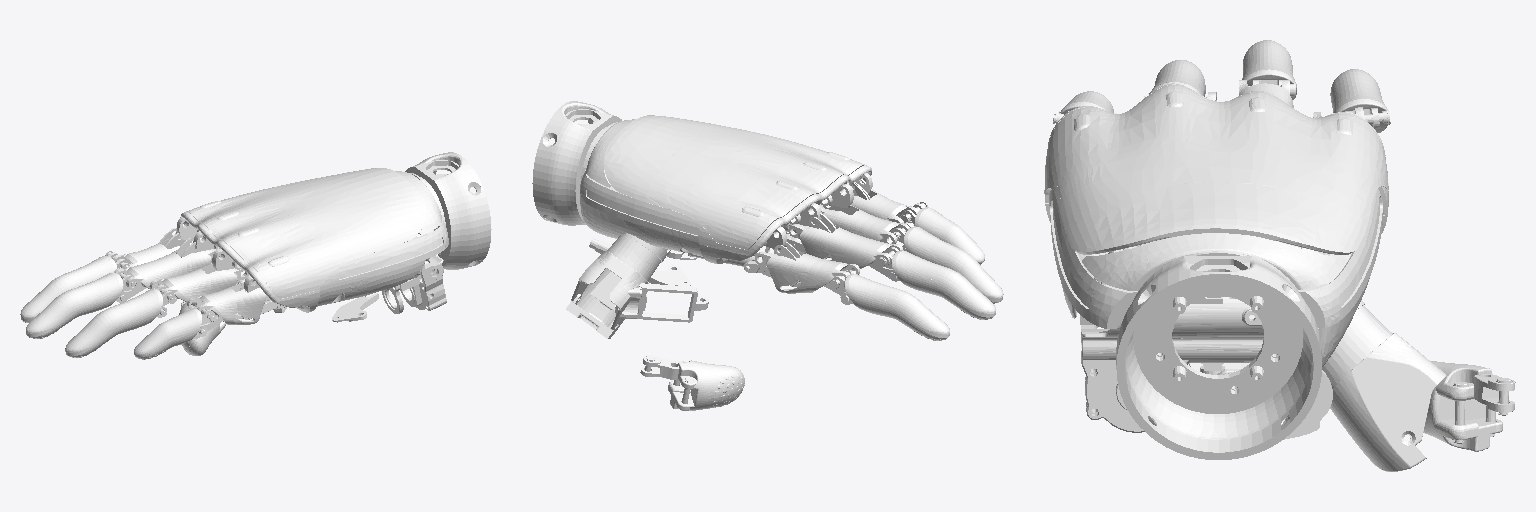
--- What the picture shows (computed from the rendered views, not written in the file) ---
Views: 3 orthographic renders of the robot side by side, from view 1: azimuth 30°, elevation 25°; view 2: azimuth 150°, elevation 25°; view 3: azimuth 270°, elevation 25°.
Robot: rohand_left — 26 links, 25 joints (1 revolute, 19 continuous, 5 prismatic); root link base_link; default pose: every joint at zero.
Links seen in each view (by area): view 1: base_link, rf_distal_link, mf_distal_link, lf_distal_link, if_distal_link, lf_proximal_link, rf_proximal_link, mf_proximal_link, if_proximal_link, th_root_link, th_distal_link; view 2: base_link, th_proximal_link, if_distal_link, mf_distal_link, th_distal_link, rf_distal_link, mf_proximal_link, if_proximal_link, lf_distal_link, th_slider_link, rf_proximal_link, lf_proximal_link (+2 smaller); view 3: base_link, th_proximal_link, th_distal_link, if_distal_link, mf_distal_link, th_connecting_link, rf_distal_link, th_root_link, lf_distal_link, mf_proximal_link.
Link boxes in pixels (box(x1,y1,x2,y2)): base_link: box(177, 152, 491, 313); rf_distal_link: box(65, 284, 176, 357); mf_distal_link: box(26, 268, 135, 338); lf_distal_link: box(134, 305, 215, 359); if_distal_link: box(20, 251, 129, 322); lf_proximal_link: box(187, 283, 268, 324); rf_proximal_link: box(149, 264, 248, 305); mf_proximal_link: box(115, 249, 220, 289); if_proximal_link: box(113, 237, 191, 267); th_root_link: box(332, 292, 378, 322); th_distal_link: box(179, 301, 225, 355); base_link: box(532, 101, 872, 263); th_proximal_link: box(566, 233, 670, 338); if_distal_link: box(830, 270, 949, 340); mf_distal_link: box(877, 247, 995, 319); th_distal_link: box(668, 360, 744, 410); rf_distal_link: box(891, 221, 1003, 303); mf_proximal_link: box(788, 220, 902, 270); if_proximal_link: box(755, 247, 859, 293); lf_distal_link: box(901, 202, 984, 264); th_slider_link: box(615, 283, 708, 322); rf_proximal_link: box(813, 205, 909, 243); lf_proximal_link: box(851, 190, 918, 223); base_link: box(1044, 83, 1388, 459); th_proximal_link: box(1302, 248, 1446, 471); th_distal_link: box(1423, 361, 1502, 451); if_distal_link: box(1330, 69, 1390, 132); mf_distal_link: box(1242, 40, 1296, 99); th_connecting_link: box(1474, 374, 1515, 415); rf_distal_link: box(1144, 60, 1205, 97); th_root_link: box(1284, 370, 1332, 439); lf_distal_link: box(1053, 91, 1113, 123); mf_proximal_link: box(1239, 80, 1293, 107).
Bounding box of the posed robot: 0.205 × 0.1121 × 0.0878 m (x, y, z).
Meshes: 26 distinct files referenced, 26 mesh visuals loaded (26 binary STL).

The robot description file, URDF, robot "rohand_left":
<?xml version="1.0" encoding="utf-8"?>
<!-- This URDF was automatically created by SolidWorks to URDF Exporter! Originally created by Stephen Brawner ([email redacted]) 
     Commit Version: 1.6.0-4-g7f85cfe  Build Version: 1.6.7995.38578
     For more information, please see http://wiki.ros.org/sw_urdf_exporter -->
<robot
  name="rohand_left">
  <link
    name="base_link">
    <inertial>
      <origin
        xyz="-0.0600175965544457 0.00173674741822627 -0.000192816298917277"
        rpy="0 0 0" />
      <mass
        value="0.0559618850522869" />
      <inertia
        ixx="2.5023287948442E-05"
        ixy="1.21179219483906E-06"
        ixz="1.31209546288813E-06"
        iyy="3.35110967631856E-05"
        iyz="4.46372025543688E-07"
        izz="5.16602242361807E-05" />
    </inertial>
    <visual>
      <origin
        xyz="0 0 0"
        rpy="0 0 0" />
      <geometry>
        <mesh
          filename="meshes_l/base_link.STL" />
      </geometry>
      <material
        name="">
        <color
          rgba="1 1 1 1" />
      </material>
    </visual>
    <collision>
      <origin
        xyz="0 0 0"
        rpy="0 0 0" />
      <geometry>
        <mesh
          filename="meshes_l/base_link.STL" />
      </geometry>
    </collision>
  </link>
  <link
    name="if_slider_link">
    <inertial>
      <origin
        xyz="-0.013831882124786 0.00115456036788866 1.18634508444434E-06"
        rpy="0 0 0" />
      <mass
        value="0.00048911221771827" />
      <inertia
        ixx="4.60387241005875E-09"
        ixy="2.8127898863501E-09"
        ixz="-3.18026655344598E-12"
        iyy="3.82302567697763E-08"
        iyz="7.17688117200499E-11"
        izz="3.92692763677803E-08" />
    </inertial>
    <visual>
      <origin
        xyz="0 0 0"
        rpy="0 0 0" />
      <geometry>
        <mesh
          filename="meshes_l/if_slider_link.STL" />
      </geometry>
      <material
        name="">
        <color
          rgba="1 1 1 1" />
      </material>
    </visual>
    <collision>
      <origin
        xyz="0 0 0"
        rpy="0 0 0" />
      <geometry>
        <mesh
          filename="meshes_l/if_slider_link.STL" />
      </geometry>
    </collision>
  </link>
  <joint
    name="if_slider_link"
    type="prismatic">
    <origin
      xyz="-0.074396 0.026655 -0.0097434"
      rpy="0 0 0" />
    <parent
      link="base_link" />
    <child
      link="if_slider_link" />
    <axis
      xyz="0.99655 -0.083049 0" />
    <limit
      lower="0"
      upper="0.019"
      effort="0"
      velocity="0" />
  </joint>
  <link
    name="if_slider_abpart_link">
    <inertial>
      <origin
        xyz="-0.0107864188255614 -0.00263940611058047 -0.00013913226482987"
        rpy="0 0 0" />
      <mass
        value="0.000419595822746572" />
      <inertia
        ixx="1.75917796784222E-09"
        ixy="2.74325143413962E-10"
        ixz="-6.61499697224064E-10"
        iyy="5.73351660617891E-09"
        iyz="9.56844870518539E-11"
        izz="6.20984539277726E-09" />
    </inertial>
    <visual>
      <origin
        xyz="0 0 0"
        rpy="0 0 0" />
      <geometry>
        <mesh
          filename="meshes_l/if_slider_abpart_link.STL" />
      </geometry>
      <material
        name="">
        <color
          rgba="1 1 1 1" />
      </material>
    </visual>
    <collision>
      <origin
        xyz="0 0 0"
        rpy="0 0 0" />
      <geometry>
        <mesh
          filename="meshes_l/if_slider_abpart_link.STL" />
      </geometry>
    </collision>
  </link>
  <joint
    name="if_slider_abpart_link"
    type="continuous">
    <origin
      xyz="-0.02861 0.0058839 -0.00030477"
      rpy="0 0 0" />
    <parent
      link="if_slider_link" />
    <child
      link="if_slider_abpart_link" />
    <axis
      xyz="0.082734 0.99276 -0.087135" />
  </joint>
  <link
    name="if_proximal_link">
    <inertial>
      <origin
        xyz="-0.0180401934810981 -0.00594318681409525 -0.00214940799795961"
        rpy="0 0 0" />
      <mass
        value="0.00154987032874225" />
      <inertia
        ixx="6.20379278686707E-08"
        ixy="7.89401144100231E-09"
        ixz="2.15078751193784E-09"
        iyy="1.54247144894286E-07"
        iyz="1.11019132631612E-09"
        izz="1.69493178080606E-07" />
    </inertial>
    <visual>
      <origin
        xyz="0 0 0"
        rpy="0 0 0" />
      <geometry>
        <mesh
          filename="meshes_l/if_proximal_link.STL" />
      </geometry>
      <material
        name="">
        <color
          rgba="1 1 1 1" />
      </material>
    </visual>
    <collision>
      <origin
        xyz="0 0 0"
        rpy="0 0 0" />
      <geometry>
        <mesh
          filename="meshes_l/if_proximal_link.STL" />
      </geometry>
    </collision>
  </link>
  <joint
    name="if_proximal_link"
    type="continuous">
    <origin
      xyz="-0.11211 0.037738 -0.0018032"
      rpy="0 0 0" />
    <parent
      link="base_link" />
    <child
      link="if_proximal_link" />
    <axis
      xyz="0.082428 0.99278 -0.087177" />
  </joint>
  <link
    name="if_distal_link">
    <inertial>
      <origin
        xyz="-0.0242417824734568 -0.00576634331785805 -0.00601095840966076"
        rpy="0 0 0" />
      <mass
        value="0.0042269383122795" />
      <inertia
        ixx="9.82682026496382E-08"
        ixy="2.86098057670536E-08"
        ixz="-1.10777302806872E-07"
        iyy="5.59160651416525E-07"
        iyz="7.3813015969809E-09"
        izz="5.40423175644971E-07" />
    </inertial>
    <visual>
      <origin
        xyz="0 0 0"
        rpy="0 0 0" />
      <geometry>
        <mesh
          filename="meshes_l/if_distal_link.STL" />
      </geometry>
      <material
        name="">
        <color
          rgba="1 1 1 1" />
      </material>
    </visual>
    <collision>
      <origin
        xyz="0 0 0"
        rpy="0 0 0" />
      <geometry>
        <mesh
          filename="meshes_l/if_distal_link.STL" />
      </geometry>
    </collision>
  </link>
  <joint
    name="if_distal_link"
    type="continuous">
    <origin
      xyz="-0.035776 0.0028401 -0.0014841"
      rpy="0 0 0" />
    <parent
      link="if_proximal_link" />
    <child
      link="if_distal_link" />
    <axis
      xyz="0.082428 0.99278 -0.087177" />
  </joint>
  <link
    name="if_connecting_link">
    <inertial>
      <origin
        xyz="-0.0154529830298678 -0.00300880066164064 -0.00700719055867323"
        rpy="0 0 0" />
      <mass
        value="0.000197692348310411" />
      <inertia
        ixx="4.07223389206408E-09"
        ixy="1.11280581546581E-09"
        ixz="-9.07369152604057E-09"
        iyy="2.70145409777339E-08"
        iyz="4.0263808141139E-10"
        izz="2.30774689922598E-08" />
    </inertial>
    <visual>
      <origin
        xyz="0 0 0"
        rpy="0 0 0" />
      <geometry>
        <mesh
          filename="meshes_l/if_connecting_link.STL" />
      </geometry>
      <material
        name="">
        <color
          rgba="1 1 1 1" />
      </material>
    </visual>
    <collision>
      <origin
        xyz="0 0 0"
        rpy="0 0 0" />
      <geometry>
        <mesh
          filename="meshes_l/if_connecting_link.STL" />
      </geometry>
    </collision>
  </link>
  <joint
    name="if_connecting_link"
    type="continuous">
    <origin
      xyz="-0.11976 0.03521 0.0028896"
      rpy="0 0 0" />
    <parent
      link="base_link" />
    <child
      link="if_connecting_link" />
    <axis
      xyz="0.082428 0.99278 -0.087177" />
  </joint>
  <link
    name="mf_slider_link">
    <inertial>
      <origin
        xyz="-0.013878747077534 0.000185328089726128 8.62274037224248E-08"
        rpy="0 0 0" />
      <mass
        value="0.000489112305392741" />
      <inertia
        ixx="4.3759626088488E-09"
        ixy="4.42668858430006E-10"
        ixz="-1.3030916787935E-11"
        iyy="3.84519195282787E-08"
        iyz="4.98468697390939E-13"
        izz="3.92755372638914E-08" />
    </inertial>
    <visual>
      <origin
        xyz="0 0 0"
        rpy="0 0 0" />
      <geometry>
        <mesh
          filename="meshes_l/mf_slider_link.STL" />
      </geometry>
      <material
        name="">
        <color
          rgba="1 1 1 1" />
      </material>
    </visual>
    <collision>
      <origin
        xyz="0 0 0"
        rpy="0 0 0" />
      <geometry>
        <mesh
          filename="meshes_l/mf_slider_link.STL" />
      </geometry>
    </collision>
  </link>
  <joint
    name="mf_slider_link"
    type="prismatic">
    <origin
      xyz="-0.076974 0.010077 -0.0054756"
      rpy="0 0 0" />
    <parent
      link="base_link" />
    <child
      link="mf_slider_link" />
    <axis
      xyz="0.99991 -0.013228 0.00010039" />
    <limit
      lower="0"
      upper="0.019"
      effort="0"
      velocity="0" />
  </joint>
  <link
    name="mf_slider_abpart_link">
    <inertial>
      <origin
        xyz="-0.0105596379857566 -0.00336124088471215 -0.000727211243021131"
        rpy="0 0 0" />
      <mass
        value="0.000419595848489683" />
      <inertia
        ixx="1.78090578752483E-09"
        ixy="5.238668931519E-11"
        ixz="-7.88313295390851E-10"
        iyy="5.74728451250454E-09"
        iyz="1.04756066269533E-11"
        izz="6.17435090190752E-09" />
    </inertial>
    <visual>
      <origin
        xyz="0 0 0"
        rpy="0 0 0" />
      <geometry>
        <mesh
          filename="meshes_l/mf_slider_abpart_link.STL" />
      </geometry>
      <material
        name="">
        <color
          rgba="1 1 1 1" />
      </material>
    </visual>
    <collision>
      <origin
        xyz="0 0 0"
        rpy="0 0 0" />
      <geometry>
        <mesh
          filename="meshes_l/mf_slider_abpart_link.STL" />
      </geometry>
    </collision>
  </link>
  <joint
    name="mf_slider_abpart_link"
    type="continuous">
    <origin
      xyz="-0.028951 0.0038841 0"
      rpy="0 0 0" />
    <parent
      link="mf_slider_link" />
    <child
      link="mf_slider_abpart_link" />
    <axis
      xyz="0.013228 0.99991 -7.2594E-05" />
  </joint>
  <link
    name="mf_proximal_link">
    <inertial>
      <origin
        xyz="-0.0199797334891479 -0.00693582390555647 -0.00446806914321724"
        rpy="0 0 0" />
      <mass
        value="0.00189508780970619" />
      <inertia
        ixx="7.78059237332349E-08"
        ixy="2.0676177672704E-09"
        ixz="-1.00300119994739E-08"
        iyy="2.3404709814833E-07"
        iyz="1.32133235333921E-10"
        izz="2.46206545141109E-07" />
    </inertial>
    <visual>
      <origin
        xyz="0 0 0"
        rpy="0 0 0" />
      <geometry>
        <mesh
          filename="meshes_l/mf_proximal_link.STL" />
      </geometry>
      <material
        name="">
        <color
          rgba="1 1 1 1" />
      </material>
    </visual>
    <collision>
      <origin
        xyz="0 0 0"
        rpy="0 0 0" />
      <geometry>
        <mesh
          filename="meshes_l/mf_proximal_link.STL" />
      </geometry>
    </collision>
  </link>
  <joint
    name="mf_proximal_link"
    type="continuous">
    <origin
      xyz="-0.11587 0.017792 0.0031262"
      rpy="0 0 0" />
    <parent
      link="base_link" />
    <child
      link="mf_proximal_link" />
    <axis
      xyz="0.013244 0.99991 4.2699E-05" />
  </joint>
  <link
    name="mf_distal_link">
    <inertial>
      <origin
        xyz="-0.0237385164850207 -0.00688494079178076 -0.00679220850075163"
        rpy="0 0 0" />
      <mass
        value="0.0042269628029676" />
      <inertia
        ixx="9.80058679932351E-08"
        ixy="6.06231538286095E-09"
        ixz="-1.13827652906676E-07"
        iyy="5.60810951030143E-07"
        iyz="1.48885023943625E-09"
        izz="5.39048309363154E-07" />
    </inertial>
    <visual>
      <origin
        xyz="0 0 0"
        rpy="0 0 0" />
      <geometry>
        <mesh
          filename="meshes_l/mf_distal_link.STL" />
      </geometry>
      <material
        name="">
        <color
          rgba="1 1 1 1" />
      </material>
    </visual>
    <collision>
      <origin
        xyz="0 0 0"
        rpy="0 0 0" />
      <geometry>
        <mesh
          filename="meshes_l/mf_distal_link.STL" />
      </geometry>
    </collision>
  </link>
  <joint
    name="mf_distal_link"
    type="continuous">
    <origin
      xyz="-0.040851 0.00054126 -0.0035367"
      rpy="0 0 0" />
    <parent
      link="mf_proximal_link" />
    <child
      link="mf_distal_link" />
    <axis
      xyz="0.013244 0.99991 2.1055E-05" />
  </joint>
  <link
    name="mf_connecting_link">
    <inertial>
      <origin
        xyz="-0.0173259476733337 -0.00342060961323609 -0.00839513952079128"
        rpy="0 0 0" />
      <mass
        value="0.000216184518525667" />
      <inertia
        ixx="5.71913358376963E-09"
        ixy="4.34632649617872E-10"
        ixz="-1.31282895880665E-08"
        iyy="3.85063451062604E-08"
        iyz="1.74009446649164E-10"
        izz="3.28217930253539E-08" />
    </inertial>
    <visual>
      <origin
        xyz="0 0 0"
        rpy="0 0 0" />
      <geometry>
        <mesh
          filename="meshes_l/mf_connecting_link.STL" />
      </geometry>
      <material
        name="">
        <color
          rgba="1 1 1 1" />
      </material>
    </visual>
    <collision>
      <origin
        xyz="0 0 0"
        rpy="0 0 0" />
      <geometry>
        <mesh
          filename="meshes_l/mf_connecting_link.STL" />
      </geometry>
    </collision>
  </link>
  <joint
    name="mf_connecting_link"
    type="continuous">
    <origin
      xyz="-0.12334 0.014341 0.0075259"
      rpy="0 0 0" />
    <parent
      link="base_link" />
    <child
      link="mf_connecting_link" />
    <axis
      xyz="0.013244 0.99991 2.1054E-05" />
  </joint>
  <link
    name="rf_slider_link">
    <inertial>
      <origin
        xyz="-0.0138578672671499 -0.000783242488329478 1.59405782883433E-07"
        rpy="0 0 0" />
      <mass
        value="0.000489112303078988" />
      <inertia
        ixx="4.48016318899327E-09"
        ixy="-1.93283010934183E-09"
        ixz="-1.28464378602608E-11"
        iyy="3.834771866864E-08"
        iyz="-3.94300598627786E-13"
        izz="3.92755371230416E-08" />
    </inertial>
    <visual>
      <origin
        xyz="0 0 0"
        rpy="0 0 0" />
      <geometry>
        <mesh
          filename="meshes_l/rf_slider_link.STL" />
      </geometry>
      <material
        name="">
        <color
          rgba="1 1 1 1" />
      </material>
    </visual>
    <collision>
      <origin
        xyz="0 0 0"
        rpy="0 0 0" />
      <geometry>
        <mesh
          filename="meshes_l/rf_slider_link.STL" />
      </geometry>
    </collision>
  </link>
  <joint
    name="rf_slider_link"
    type="prismatic">
    <origin
      xyz="-0.074498 -0.0072492 -0.0062204"
      rpy="0 0 0" />
    <parent
      link="base_link" />
    <child
      link="rf_slider_link" />
    <axis
      xyz="0.9984 0.056554 9.5082E-05" />
    <limit
      lower="0"
      upper="0.019"
      effort="0"
      velocity="0" />
  </joint>
  <link
    name="rf_slider_abpart_link">
    <inertial>
      <origin
        xyz="-0.0103066808663681 -0.00409004748705058 -0.000613628353270297"
        rpy="0 0 0" />
      <mass
        value="0.000419595841745906" />
      <inertia
        ixx="1.77645736028942E-09"
        ixy="-2.25058409313134E-10"
        ixz="-7.39578165961404E-10"
        iyy="5.73522260886412E-09"
        iyz="-4.18409260159825E-11"
        izz="6.19086108929486E-09" />
    </inertial>
    <visual>
      <origin
        xyz="0 0 0"
        rpy="0 0 0" />
      <geometry>
        <mesh
          filename="meshes_l/rf_slider_abpart_link.STL" />
      </geometry>
      <material
        name="">
        <color
          rgba="1 1 1 1" />
      </material>
    </visual>
    <collision>
      <origin
        xyz="0 0 0"
        rpy="0 0 0" />
      <geometry>
        <mesh
          filename="meshes_l/rf_slider_abpart_link.STL" />
      </geometry>
    </collision>
  </link>
  <joint
    name="rf_slider_abpart_link"
    type="continuous">
    <origin
      xyz="-0.029152 0.0018551 0"
      rpy="0 0 0" />
    <parent
      link="rf_slider_link" />
    <child
      link="rf_slider_abpart_link" />
    <axis
      xyz="-0.056554 0.9984 -7.942E-05" />
  </joint>
  <link
    name="rf_proximal_link">
    <inertial>
      <origin
        xyz="-0.0169549089835899 -0.00817221852533054 -0.00333737800773532"
        rpy="0 0 0" />
      <mass
        value="0.00154985371268108" />
      <inertia
        ixx="6.16430441306532E-08"
        ixy="-5.27625854931828E-09"
        ixz="-1.35085566211526E-09"
        iyy="1.54505752798055E-07"
        iyz="-7.80848576926728E-11"
        izz="1.69627005510225E-07" />
    </inertial>
    <visual>
      <origin
        xyz="0 0 0"
        rpy="0 0 0" />
      <geometry>
        <mesh
          filename="meshes_l/rf_proximal_link.STL" />
      </geometry>
      <material
        name="">
        <color
          rgba="1 1 1 1" />
      </material>
    </visual>
    <collision>
      <origin
        xyz="0 0 0"
        rpy="0 0 0" />
      <geometry>
        <mesh
          filename="meshes_l/rf_proximal_link.STL" />
      </geometry>
    </collision>
  </link>
  <joint
    name="rf_proximal_link"
    type="continuous">
    <origin
      xyz="-0.11364 -0.0022565 0.0023761"
      rpy="0 0 0" />
    <parent
      link="base_link" />
    <child
      link="rf_proximal_link" />
    <axis
      xyz="-0.05658 0.9984 2.102E-05" />
  </joint>
  <link
    name="rf_distal_link">
    <inertial>
      <origin
        xyz="-0.022696111452442 -0.00849649226724736 -0.00835478756750876"
        rpy="0 0 0" />
      <mass
        value="0.00422730983553646" />
      <inertia
        ixx="1.16496262714894E-07"
        ixy="-2.5261364839183E-08"
        ixz="-1.41993969994743E-07"
        iyy="5.59567957009536E-07"
        iyz="-8.07053877471632E-09"
        izz="5.22034079641838E-07" />
    </inertial>
    <visual>
      <origin
        xyz="0 0 0"
        rpy="0 0 0" />
      <geometry>
        <mesh
          filename="meshes_l/rf_distal_link.STL" />
      </geometry>
      <material
        name="">
        <color
          rgba="1 1 1 1" />
      </material>
    </visual>
    <collision>
      <origin
        xyz="0 0 0"
        rpy="0 0 0" />
      <geometry>
        <mesh
          filename="meshes_l/rf_distal_link.STL" />
      </geometry>
    </collision>
  </link>
  <joint
    name="rf_distal_link"
    type="continuous">
    <origin
      xyz="-0.035766 -0.0020268 -0.0026198"
      rpy="0 0 0" />
    <parent
      link="rf_proximal_link" />
    <child
      link="rf_distal_link" />
    <axis
      xyz="-0.05658 0.9984 2.102E-05" />
  </joint>
  <link
    name="rf_connecting_link">
    <inertial>
      <origin
        xyz="-0.0182151281756033 0.0164706758619828 -0.00574282817068492"
        rpy="0 0 0" />
      <mass
        value="0.000197692354337264" />
      <inertia
        ixx="4.92838052690555E-09"
        ixy="-1.25465921189233E-09"
        ixz="-9.87171474508207E-09"
        iyy="2.70004879799029E-08"
        iyz="-5.59333811535522E-10"
        izz="2.22353755729308E-08" />
    </inertial>
    <visual>
      <origin
        xyz="0 0 0"
        rpy="0 0 0" />
      <geometry>
        <mesh
          filename="meshes_l/rf_connecting_link.STL" />
      </geometry>
      <material
        name="">
        <color
          rgba="1 1 1 1" />
      </material>
    </visual>
    <collision>
      <origin
        xyz="0 0 0"
        rpy="0 0 0" />
      <geometry>
        <mesh
          filename="meshes_l/rf_connecting_link.STL" />
      </geometry>
    </collision>
  </link>
  <joint
    name="rf_connecting_link"
    type="continuous">
    <origin
      xyz="-0.11723 -0.027174 0.0045247"
      rpy="0 0 0" />
    <parent
      link="base_link" />
    <child
      link="rf_connecting_link" />
    <axis
      xyz="-0.05658 0.9984 2.102E-05" />
  </joint>
  <link
    name="lf_slider_link">
    <inertial>
      <origin
        xyz="-0.0144167564876969 -0.00171205925869156 3.81352530457336E-07"
        rpy="0 0 0" />
      <mass
        value="0.000510662528391611" />
      <inertia
        ixx="4.9365491500063E-09"
        ixy="-3.99382130462206E-09"
        ixz="-3.828969291191E-12"
        iyy="3.79994364556094E-08"
        iyz="-7.87026435487919E-11"
        izz="3.93595008041777E-08" />
    </inertial>
    <visual>
      <origin
        xyz="0 0 0"
        rpy="0 0 0" />
      <geometry>
        <mesh
          filename="meshes_l/lf_slider_link.STL" />
      </geometry>
      <material
        name="">
        <color
          rgba="1 1 1 1" />
      </material>
    </visual>
    <collision>
      <origin
        xyz="0 0 0"
        rpy="0 0 0" />
      <geometry>
        <mesh
          filename="meshes_l/lf_slider_link.STL" />
      </geometry>
    </collision>
  </link>
  <joint
    name="lf_slider_link"
    type="prismatic">
    <origin
      xyz="-0.070847 -0.024182 -0.0087399"
      rpy="0 0 0" />
    <parent
      link="base_link" />
    <child
      link="lf_slider_link" />
    <axis
      xyz="0.99301 0.11803 8.2704E-05" />
    <limit
      lower="0"
      upper="0.019"
      effort="0"
      velocity="0" />
  </joint>
  <link
    name="lf_slider_abpart_link">
    <inertial>
      <origin
        xyz="-0.0100358483607182 -0.00463982379624506 -0.00104236140669513"
        rpy="0 0 0" />
      <mass
        value="0.000419595826532552" />
      <inertia
        ixx="1.82121196852816E-09"
        ixy="-3.9802967870408E-10"
        ixz="-7.80769700533061E-10"
        iyy="5.71210051864852E-09"
        iyz="-1.29906442115816E-10"
        izz="6.16922773505283E-09" />
    </inertial>
    <visual>
      <origin
        xyz="0 0 0"
        rpy="0 0 0" />
      <geometry>
        <mesh
          filename="meshes_l/lf_slider_abpart_link.STL" />
      </geometry>
      <material
        name="">
        <color
          rgba="1 1 1 1" />
      </material>
    </visual>
    <collision>
      <origin
        xyz="0 0 0"
        rpy="0 0 0" />
      <geometry>
        <mesh
          filename="meshes_l/lf_slider_abpart_link.STL" />
      </geometry>
    </collision>
  </link>
  <joint
    name="lf_slider_abpart_link"
    type="continuous">
    <origin
      xyz="-0.029209 4.0116E-05 0.00030326"
      rpy="0 0 0" />
    <parent
      link="lf_slider_link" />
    <child
      link="lf_slider_abpart_link" />
    <axis
      xyz="-0.11759 0.98923 0.08715" />
  </joint>
  <link
    name="lf_proximal_link">
    <inertial>
      <origin
        xyz="-0.0146179038371213 -0.00865933449081624 -0.00404765240562847"
        rpy="0 0 0" />
      <mass
        value="0.00136661208486985" />
      <inertia
        ixx="5.65517835433433E-08"
        ixy="-6.43465965682621E-09"
        ixz="-2.86652645878912E-09"
        iyy="1.12186752570062E-07"
        iyz="-1.61029658148309E-09"
        izz="1.27246247373284E-07" />
    </inertial>
    <visual>
      <origin
        xyz="0 0 0"
        rpy="0 0 0" />
      <geometry>
        <mesh
          filename="meshes_l/lf_proximal_link.STL" />
      </geometry>
      <material
        name="">
        <color
          rgba="1 1 1 1" />
      </material>
    </visual>
    <collision>
      <origin
        xyz="0 0 0"
        rpy="0 0 0" />
      <geometry>
        <mesh
          filename="meshes_l/lf_proximal_link.STL" />
      </geometry>
    </collision>
  </link>
  <joint
    name="lf_proximal_link"
    type="continuous">
    <origin
      xyz="-0.11032 -0.022406 0.00045133"
      rpy="0 0 0" />
    <parent
      link="base_link" />
    <child
      link="lf_proximal_link" />
    <axis
      xyz="-0.11759 0.98923 0.087106" />
  </joint>
  <link
    name="lf_distal_link">
    <inertial>
      <origin
        xyz="-0.014370796499536 -0.008390245956126 -0.00657795990320131"
        rpy="0 0 0" />
      <mass
        value="0.00262042947413116" />
      <inertia
        ixx="5.14865241597797E-08"
        ixy="-8.72354900376059E-09"
        ixz="-3.78475585620367E-08"
        iyy="1.52166371803539E-07"
        iyz="-3.91942047531454E-09"
        izz="1.45327848752015E-07" />
    </inertial>
    <visual>
      <origin
        xyz="0 0 0"
        rpy="0 0 0" />
      <geometry>
        <mesh
          filename="meshes_l/lf_distal_link.STL" />
      </geometry>
      <material
        name="">
        <color
          rgba="1 1 1 1" />
      </material>
    </visual>
    <collision>
      <origin
        xyz="0 0 0"
        rpy="0 0 0" />
      <geometry>
        <mesh
          filename="meshes_l/lf_distal_link.STL" />
      </geometry>
    </collision>
  </link>
  <joint
    name="lf_distal_link"
    type="continuous">
    <origin
      xyz="-0.031562 -0.0034532 -0.003392"
      rpy="0 0 0" />
    <parent
      link="lf_proximal_link" />
    <child
      link="lf_distal_link" />
    <axis
      xyz="-0.11759 0.98923 0.087106" />
  </joint>
  <link
    name="lf_connecting_link">
    <inertial>
      <origin
        xyz="-0.0121624488477445 -0.00439577388851597 -0.00839995412997622"
        rpy="0 0 0" />
      <mass
        value="0.000176980932045691" />
      <inertia
        ixx="4.93706927346499E-09"
        ixy="-1.08018597686527E-09"
        ixz="-8.19110691260071E-09"
        iyy="2.00115768299624E-08"
        iyz="-5.47674876971474E-10"
        izz="1.52537402638674E-08" />
    </inertial>
    <visual>
      <origin
        xyz="0 0 0"
        rpy="0 0 0" />
      <geometry>
        <mesh
          filename="meshes_l/lf_connecting_link.STL" />
      </geometry>
      <material
        name="">
        <color
          rgba="1 1 1 1" />
      </material>
    </visual>
    <collision>
      <origin
        xyz="0 0 0"
        rpy="0 0 0" />
      <geometry>
        <mesh
          filename="meshes_l/lf_connecting_link.STL" />
      </geometry>
    </collision>
  </link>
  <joint
    name="lf_connecting_link"
    type="continuous">
    <origin
      xyz="-0.11723 -0.027174 0.0045247"
      rpy="0 0 0" />
    <parent
      link="base_link" />
    <child
      link="lf_connecting_link" />
    <axis
      xyz="-0.11759 0.98924 0.087085" />
  </joint>
  <link
    name="th_root_link">
    <inertial>
      <origin
        xyz="-0.0182055985206398 0.0062027796983799 -0.00602504691008154"
        rpy="0 0 0" />
      <mass
        value="0.00217782401907458" />
      <inertia
        ixx="1.92048266024776E-07"
        ixy="8.02008085705929E-08"
        ixz="-1.58292817167637E-08"
        iyy="1.97385210109919E-07"
        iyz="2.8437183719772E-08"
        izz="2.25369870005598E-07" />
    </inertial>
    <visual>
      <origin
        xyz="0 0 0"
        rpy="0 0 0" />
      <geometry>
        <mesh
          filename="meshes_l/th_root_link.STL" />
      </geometry>
      <material
        name="">
        <color
          rgba="1 1 1 1" />
      </material>
    </visual>
    <collision>
      <origin
        xyz="0 0 0"
        rpy="0 0 0" />
      <geometry>
        <mesh
          filename="meshes_l/th_root_link.STL" />
      </geometry>
    </collision>
  </link>
  <joint
    name="th_root_link"
    type="revolute">
    <origin
      xyz="-0.024656 0.019554 -0.022107"
      rpy="0 0 0" />
    <parent
      link="base_link" />
    <child
      link="th_root_link" />
    <axis
      xyz="-0.97616 0.01293 -0.21667" />
    <limit
      lower="0"
      upper="1.57"
      effort="0"
      velocity="0" />
  </joint>
  <link
    name="th_proximal_link">
    <inertial>
      <origin
        xyz="-0.00770018684827107 0.011788302524247 -0.0170644760229541"
        rpy="0 0 0" />
      <mass
        value="0.00501318922026079" />
      <inertia
        ixx="2.07793414915373E-06"
        ixy="-3.98829361859851E-12"
        ixz="3.13964194303496E-13"
        iyy="1.50672511173197E-06"
        iyz="6.80394768150803E-07"
        izz="6.75564984341833E-07" />
    </inertial>
    <visual>
      <origin
        xyz="0 0 0"
        rpy="0 0 0" />
      <geometry>
        <mesh
          filename="meshes_l/th_proximal_link.STL" />
      </geometry>
      <material
        name="">
        <color
          rgba="1 1 1 1" />
      </material>
    </visual>
    <collision>
      <origin
        xyz="0 0 0"
        rpy="0 0 0" />
      <geometry>
        <mesh
          filename="meshes_l/th_proximal_link.STL" />
      </geometry>
    </collision>
  </link>
  <joint
    name="th_proximal_link"
    type="continuous">
    <origin
      xyz="-0.025097 0.021667 -0.015581"
      rpy="0.14303 1.3497 0.14655" />
    <parent
      link="th_root_link" />
    <child
      link="th_proximal_link" />
    <axis
      xyz="1 0 0" />
  </joint>
  <link
    name="th_slider_link">
    <inertial>
      <origin
        xyz="-0.0119352170255541 0.00825053452681337 -0.00238381819650775"
        rpy="0 0 0" />
      <mass
        value="0.000966918573679237" />
      <inertia
        ixx="4.78147534251827E-08"
        ixy="2.60369555753437E-08"
        ixz="-1.95859134260407E-09"
        iyy="5.57308268866282E-08"
        iyz="5.63509107044142E-09"
        izz="6.02170914313473E-08" />
    </inertial>
    <visual>
      <origin
        xyz="0 0 0"
        rpy="0 0 0" />
      <geometry>
        <mesh
          filename="meshes_l/th_slider_link.STL" />
      </geometry>
      <material
        name="">
        <color
          rgba="1 1 1 1" />
      </material>
    </visual>
    <collision>
      <origin
        xyz="0 0 0"
        rpy="0 0 0" />
      <geometry>
        <mesh
          filename="meshes_l/th_slider_link.STL" />
      </geometry>
    </collision>
  </link>
  <joint
    name="th_slider_link"
    type="prismatic">
    <origin
      xyz="-0.0076999999999972 0.00276927591433551 -0.000236666241639902"
      rpy="0 -1.3519569747769 -0.0320343601595158" />
    <parent
      link="th_proximal_link" />
    <child
      link="th_slider_link" />
    <axis
      xyz="-0.761977793105663 0.630282689066857 -0.148773568473957" />
    <limit
      lower="0"
      upper="0.01"
      effort="0"
      velocity="0" />
  </joint>
  <link
    name="th_connecting_link">
    <inertial>
      <origin
        xyz="-0.00506957828509727 0.00225299091651826 0.0036519163338174"
        rpy="0 0 0" />
      <mass
        value="0.000334843777726033" />
      <inertia
        ixx="2.97269012068611E-09"
        ixy="1.34809608463028E-09"
        ixz="-4.23656553440134E-10"
        iyy="5.01992883871934E-09"
        iyz="2.98232658947671E-10"
        izz="4.99074064887975E-09" />
    </inertial>
    <visual>
      <origin
        xyz="0 0 0"
        rpy="0 0 0" />
      <geometry>
        <mesh
          filename="meshes_l/th_connecting_link.STL" />
      </geometry>
      <material
        name="">
        <color
          rgba="1 1 1 1" />
      </material>
    </visual>
    <collision>
      <origin
        xyz="0 0 0"
        rpy="0 0 0" />
      <geometry>
        <mesh
          filename="meshes_l/th_connecting_link.STL" />
      </geometry>
    </collision>
  </link>
  <joint
    name="th_connecting_link"
    type="continuous">
    <origin
      xyz="-0.027697 0.024088 -0.010084"
      rpy="0 0 0" />
    <parent
      link="th_slider_link" />
    <child
      link="th_connecting_link" />
    <axis
      xyz="0.21699 0.032029 -0.97565" />
  </joint>
  <link
    name="th_distal_link">
    <inertial>
      <origin
        xyz="-0.00470321656966432 0.0108131649563329 0.00709251414154711"
        rpy="0 0 0" />
      <mass
        value="0.00509494222453049" />
      <inertia
        ixx="2.72112772656721E-07"
        ixy="5.86600483065481E-08"
        ixz="8.76444627770057E-09"
        iyy="2.01886474111303E-07"
        iyz="1.17477856405696E-08"
        izz="2.43694502794788E-07" />
    </inertial>
    <visual>
      <origin
        xyz="0 0 0"
        rpy="0 0 0" />
      <geometry>
        <mesh
          filename="meshes_l/th_distal_link.STL" />
      </geometry>
      <material
        name="">
        <color
          rgba="1 1 1 1" />
      </material>
    </visual>
    <collision>
      <origin
        xyz="0 0 0"
        rpy="0 0 0" />
      <geometry>
        <mesh
          filename="meshes_l/th_distal_link.STL" />
      </geometry>
    </collision>
  </link>
  <joint
    name="th_distal_link"
    type="continuous">
    <origin
      xyz="-0.00010351 0.023735 -0.046849"
      rpy="0 -1.352 -0.032034" />
    <parent
      link="th_proximal_link" />
    <child
      link="th_distal_link" />
    <axis
      xyz="0.21698 0.032029 -0.97565" />
  </joint>
</robot>
